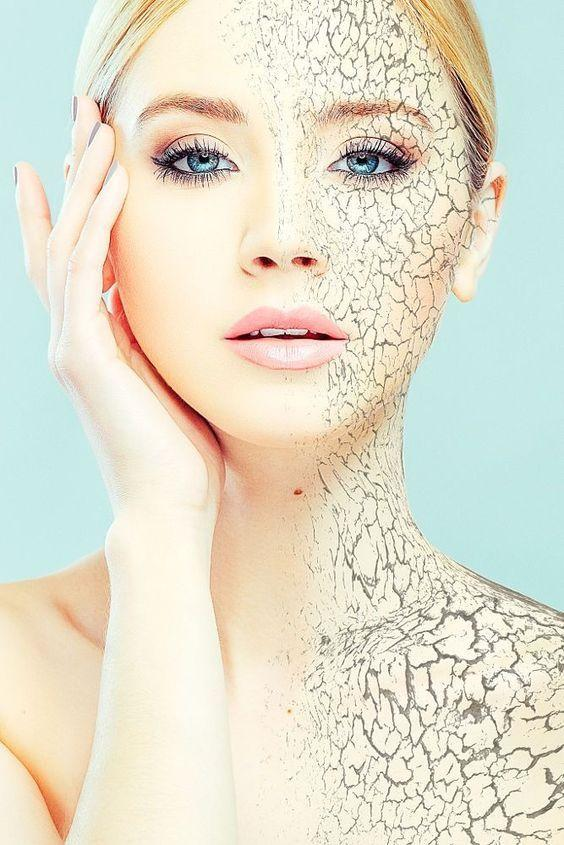Dry-Skin: (303, 583, 564, 845), (298, 191, 441, 345), (233, 8, 425, 94), (306, 431, 401, 602), (311, 353, 405, 449), (268, 118, 340, 210), (426, 118, 483, 220)
